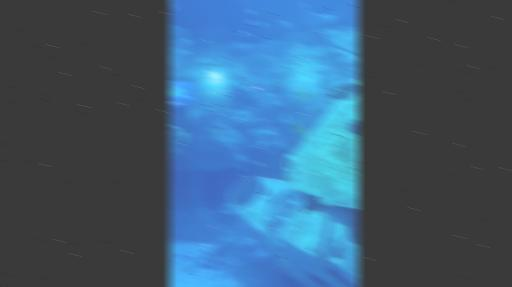Fish: (302, 193, 358, 244), (304, 4, 341, 28), (330, 83, 358, 100), (168, 86, 193, 102), (291, 119, 306, 137), (219, 203, 242, 213), (347, 120, 358, 134), (277, 20, 292, 29), (179, 131, 188, 142), (333, 246, 340, 258), (245, 9, 254, 14), (246, 20, 255, 25), (181, 39, 190, 44), (254, 162, 263, 166), (168, 0, 175, 5), (239, 31, 246, 36), (171, 4, 176, 10), (260, 22, 265, 26)
